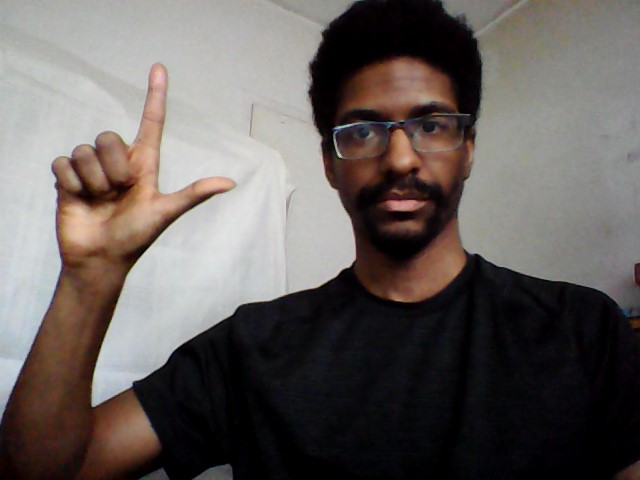l: (48, 60, 241, 250)
